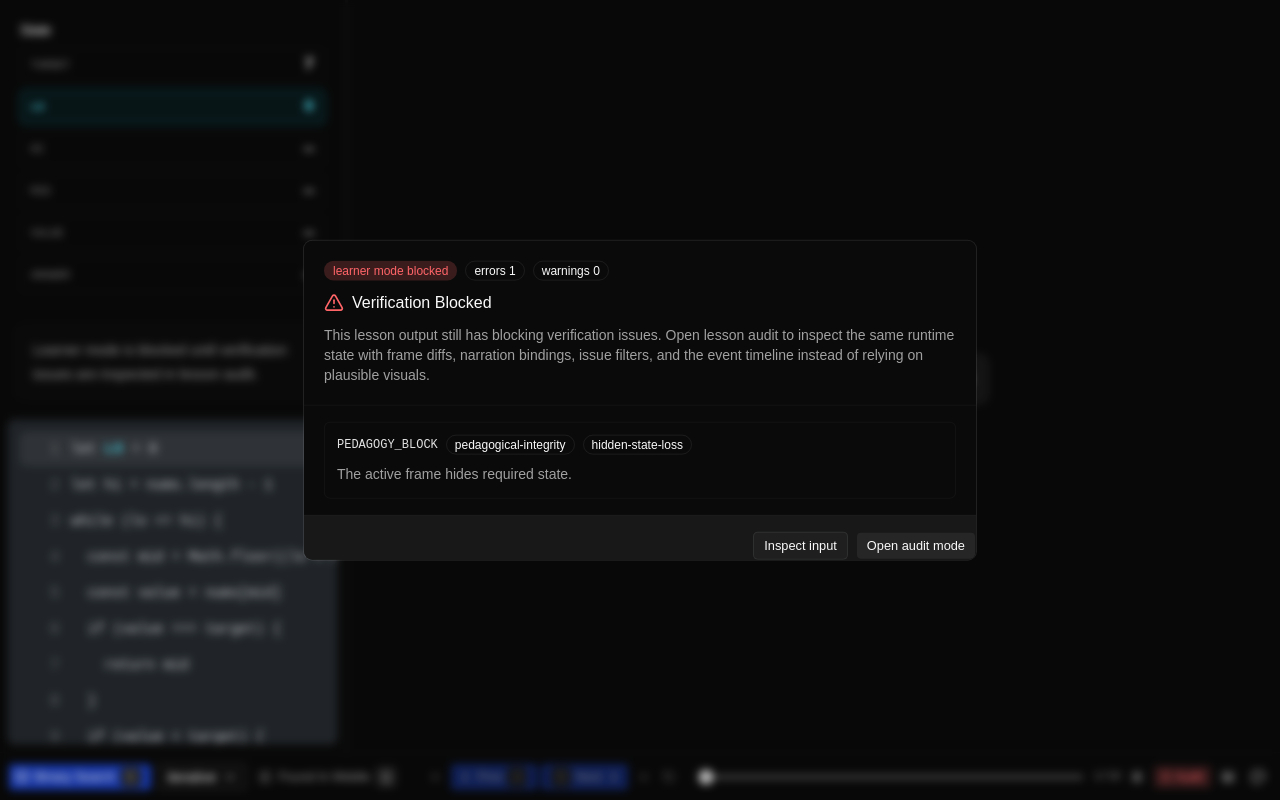
App › renders the verification blocker through the dialog shell
Check: the dialog "Verification Blocked" is shown, box x1=304 y1=241 x2=976 y2=559
Click the button "Open audit mode". click: (916, 545)
box: x1=856 y1=531 x2=976 y2=559
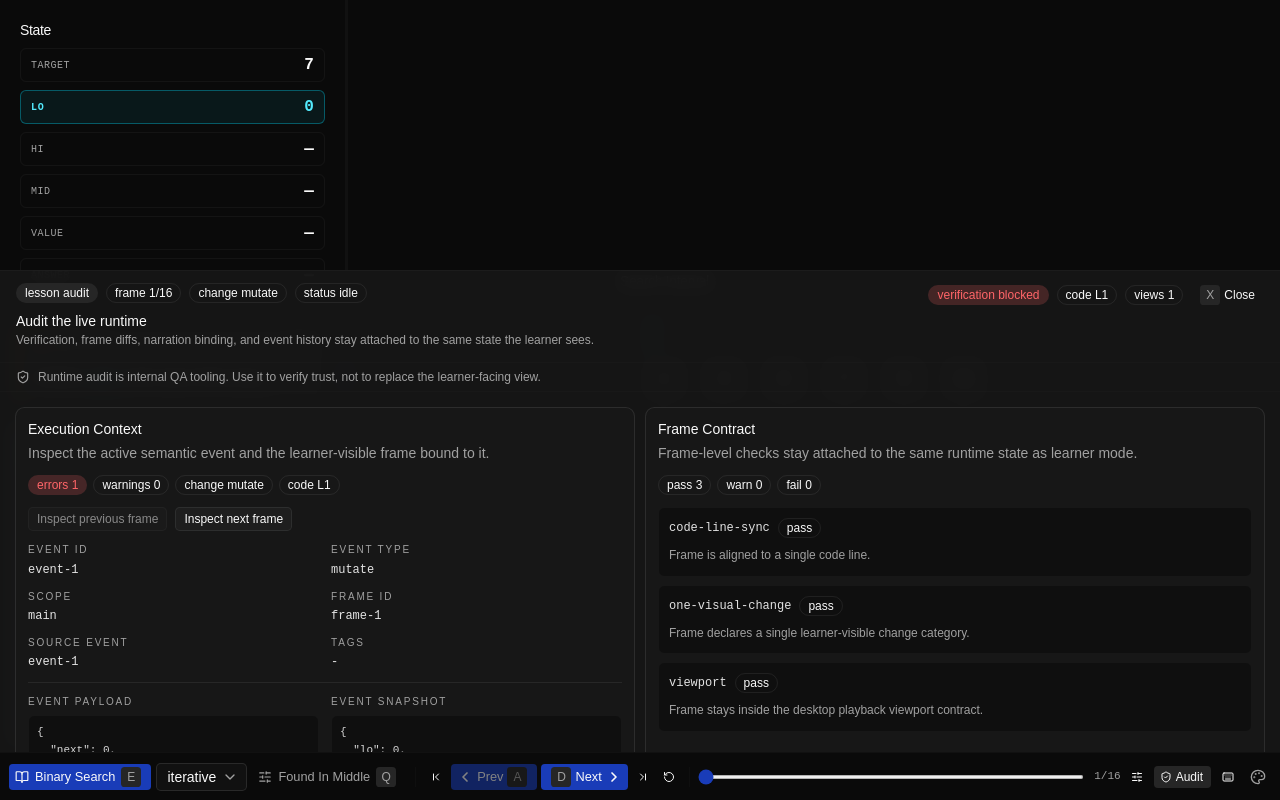
Check: the text "Execution Context" is shown, box x1=28 y1=421 x2=142 y2=437
